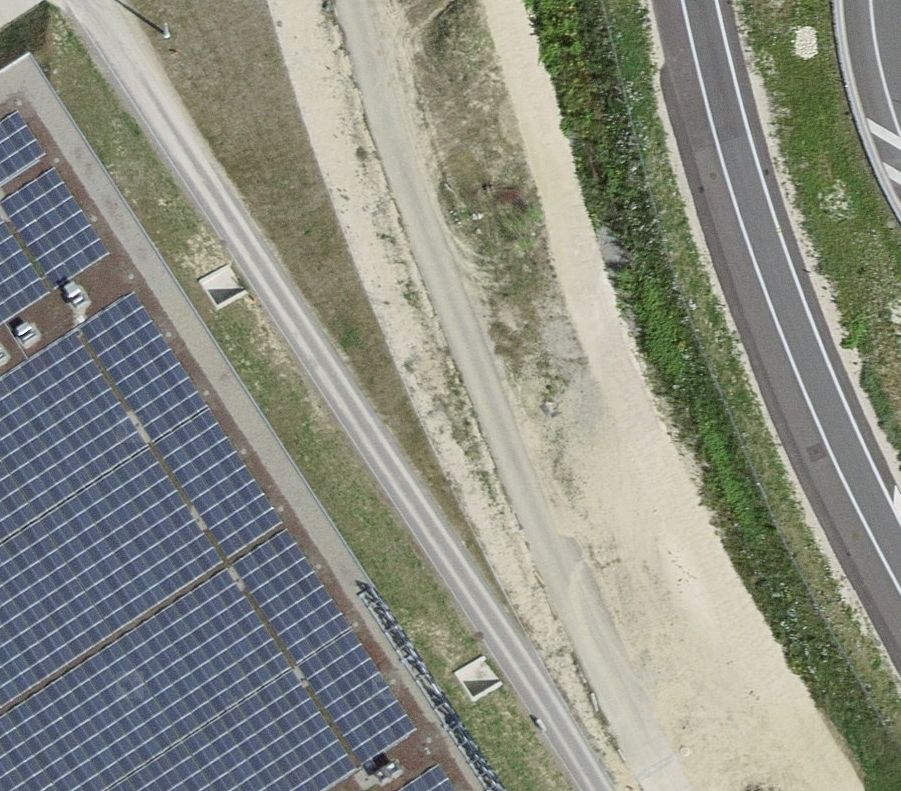solar: (1, 111, 453, 789)
